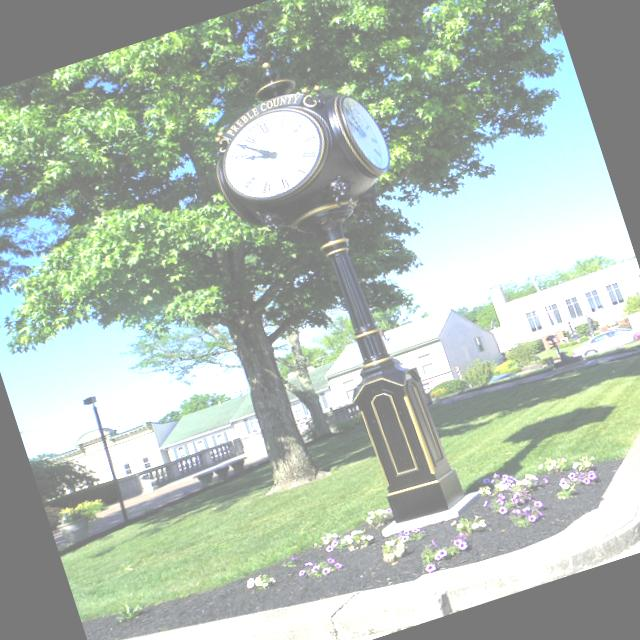Vehicle: (569, 318, 640, 360), (489, 370, 516, 382)
